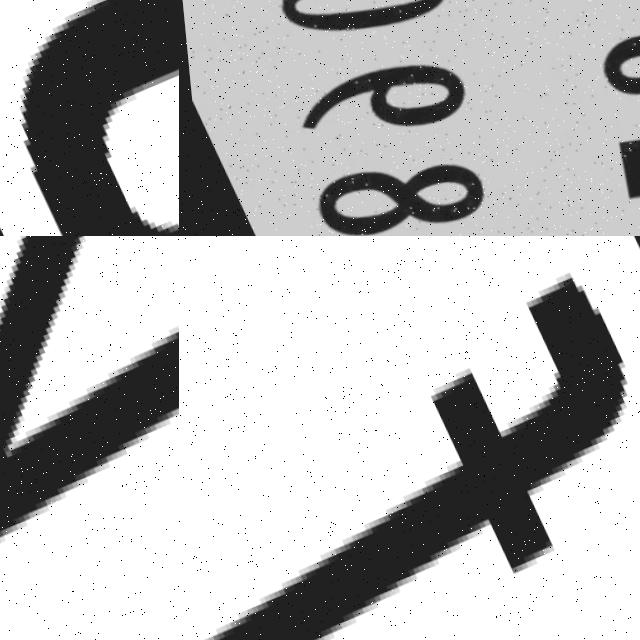0: (236, 0, 486, 92)
2: (566, 50, 640, 236)
3: (563, 0, 640, 149)
7: (281, 198, 538, 236)
8: (266, 104, 520, 236)
9: (247, 0, 506, 197)
F: (179, 264, 640, 640)
G: (0, 0, 179, 236)
K: (0, 236, 179, 640)
